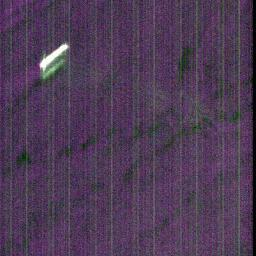Ship: (37, 42, 71, 73)
